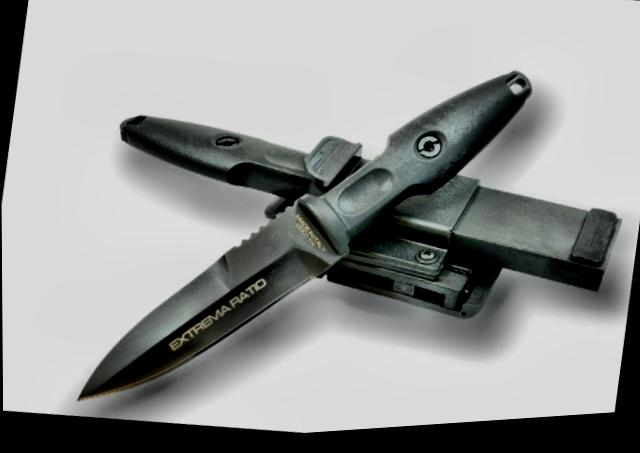knife: (70, 167, 349, 443)
